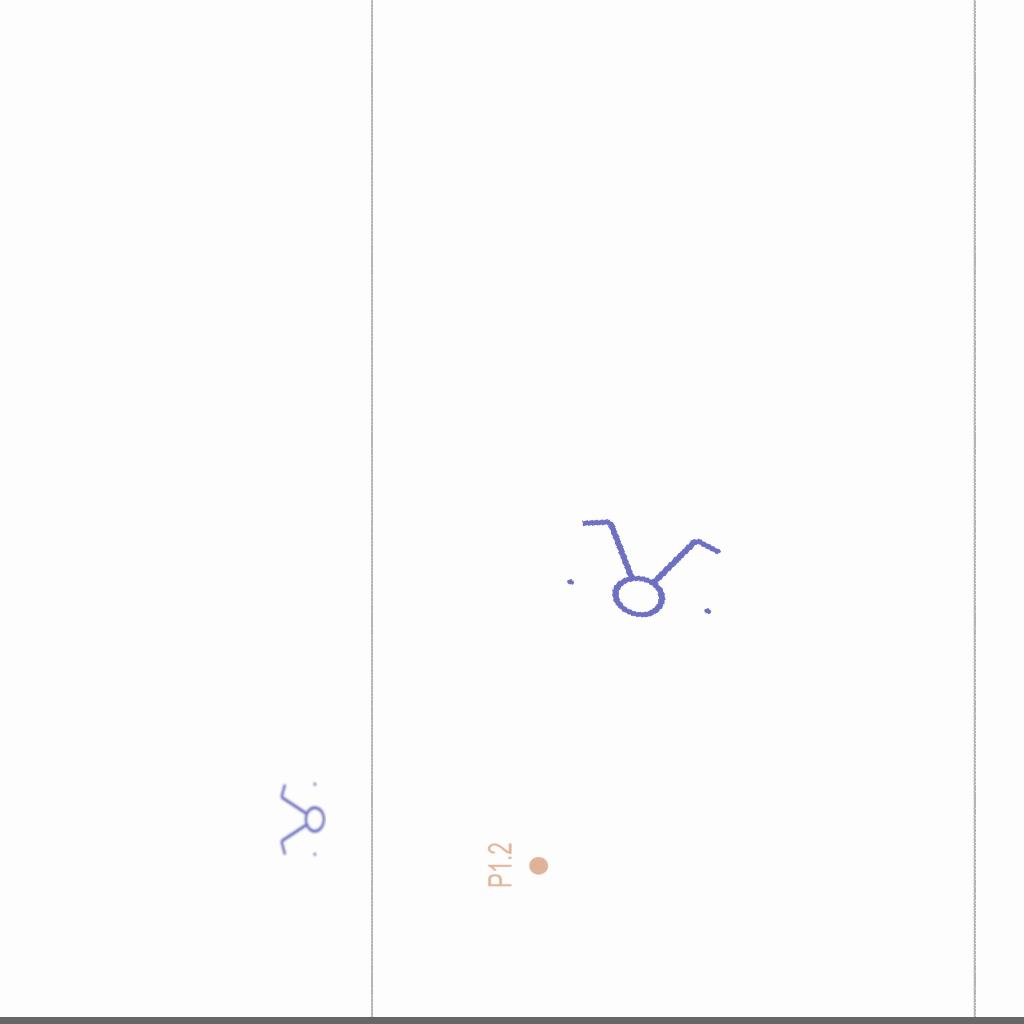Downlight_LED_Einbauleuchten_Flur: (486, 842, 550, 888)
Serienschalter: (550, 506, 736, 636), (278, 778, 326, 862)
